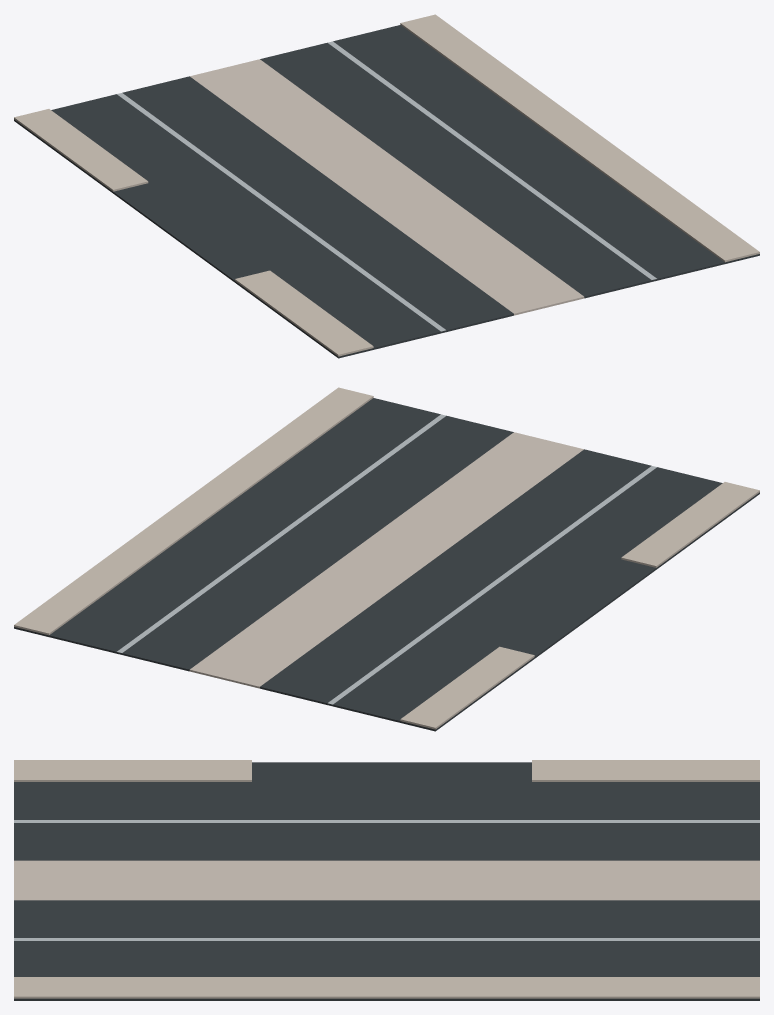
File: SM_road_033.glb
The picture shows the model from 3 angles, top to bottom: view 1: azimuth 30°, elevation 25°; view 2: azimuth 150°, elevation 25°; view 3: azimuth 270°, elevation 25°; orthographic projection. The views are drawn at different scales.
Visible parts, largest first — view 1: SM_road_033; view 2: SM_road_033; view 3: SM_road_033.
Part boxes in pixels (<box>): SM_road_033: <box>14,14,759,358</box>; SM_road_033: <box>14,387,759,731</box>; SM_road_033: <box>14,760,759,1000</box>.
Size of the model in its own units: 12 by 0.1 by 16.
Materials: 1 (1 with a texture image).
